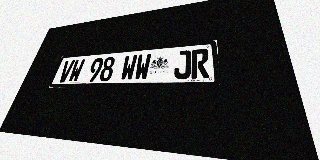8: (98, 56, 116, 81)
9: (86, 57, 105, 82)
J: (173, 50, 191, 79)
R: (191, 48, 209, 79)
V: (57, 60, 75, 83)
W: (120, 54, 138, 81), (134, 53, 152, 80), (67, 59, 85, 82)
